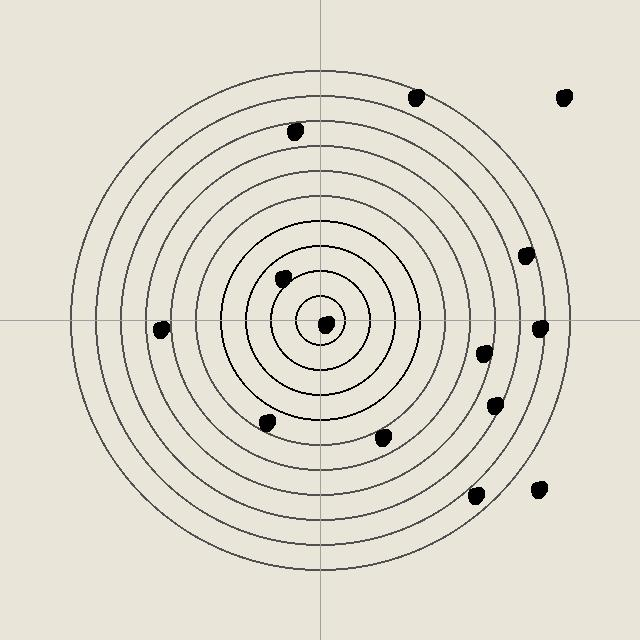random_scatter: (150, 319, 170, 339), (315, 314, 335, 334), (465, 485, 485, 505), (529, 318, 549, 338), (528, 479, 548, 499), (515, 245, 535, 265), (553, 87, 573, 107), (405, 87, 425, 107), (484, 395, 504, 415), (372, 427, 392, 447), (473, 343, 493, 363), (284, 121, 304, 141), (256, 412, 276, 432), (272, 268, 292, 288)
